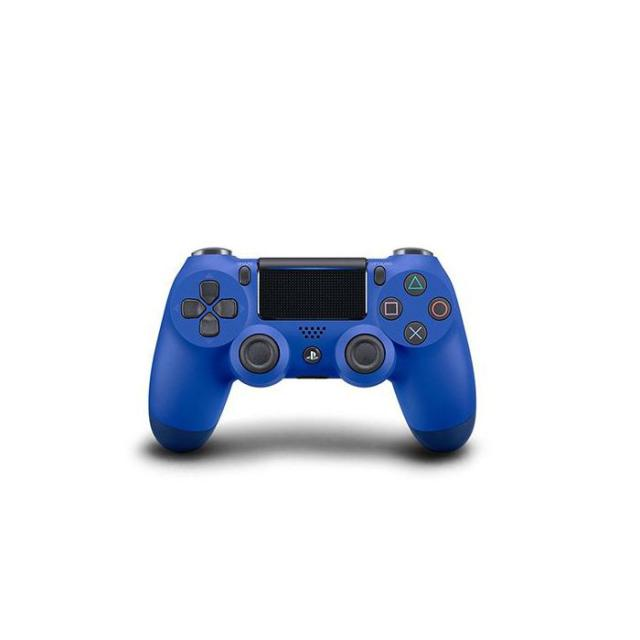ps4_controller: (143, 242, 478, 466)
